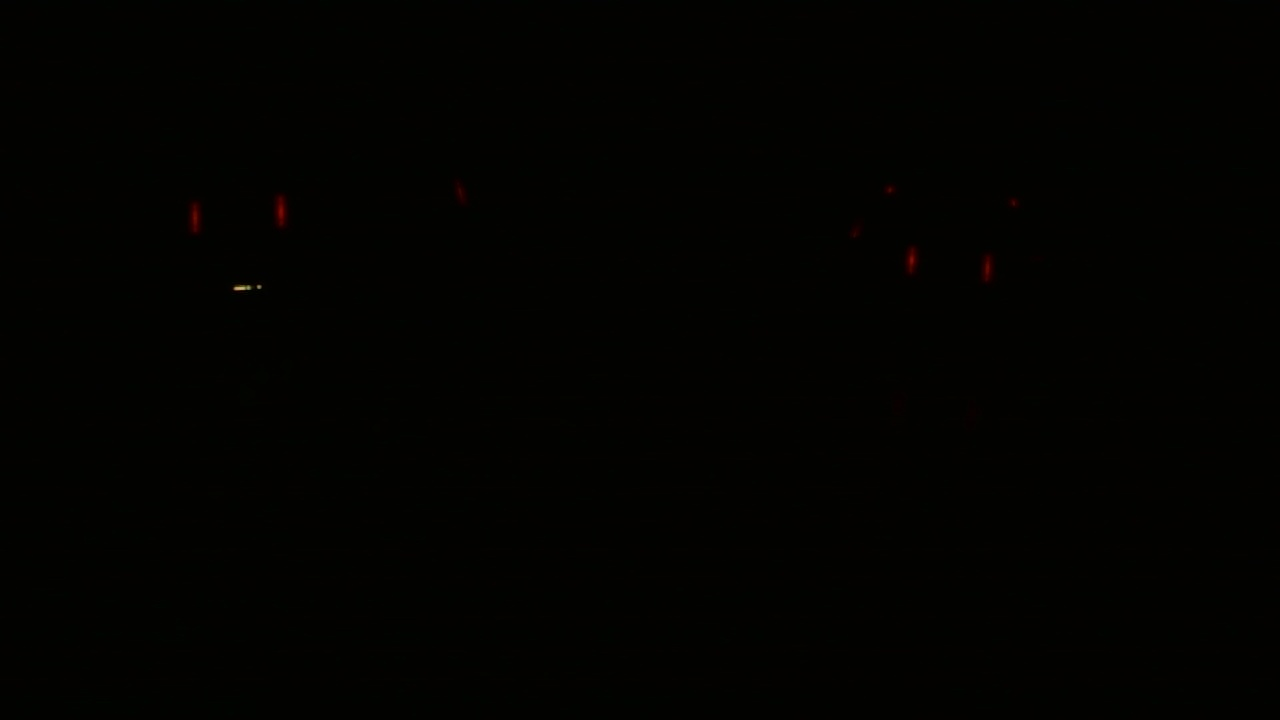pair1: (180, 183, 299, 247)
pair2: (901, 240, 1006, 295)
